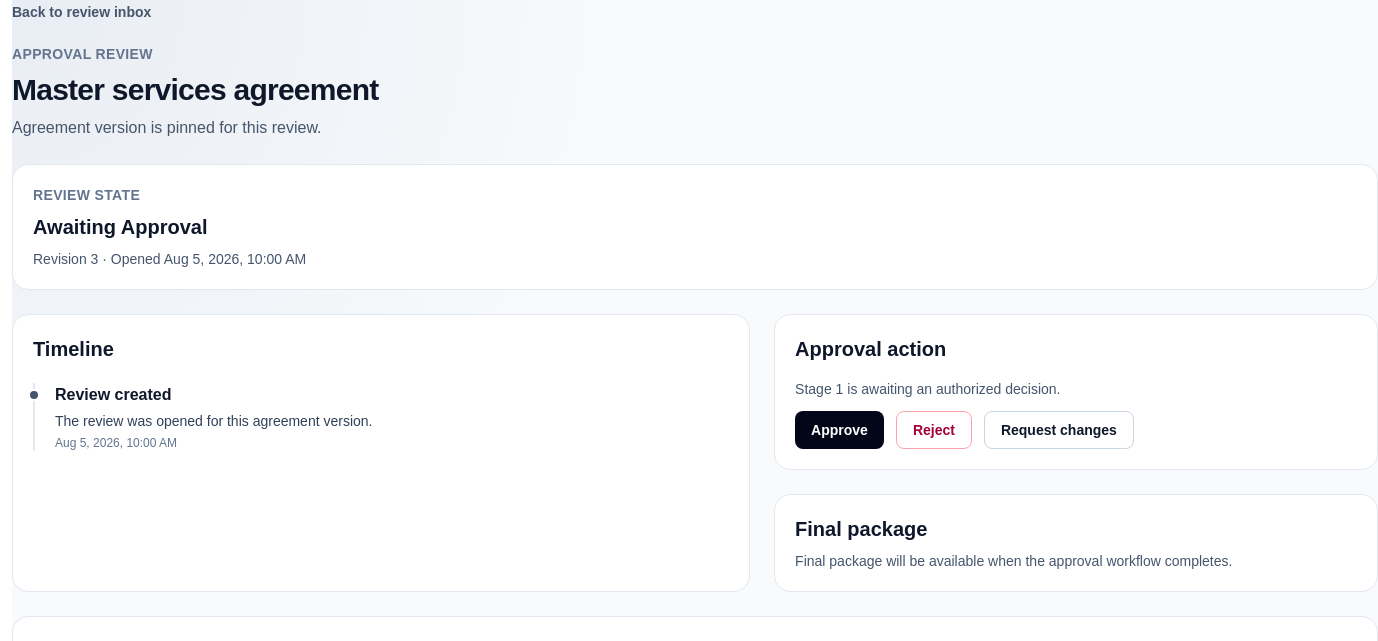
ApprovalReviewWorkspace › records an approval against the workflow revision
Click the button "Approve": (840, 430) [795,411,884,449]
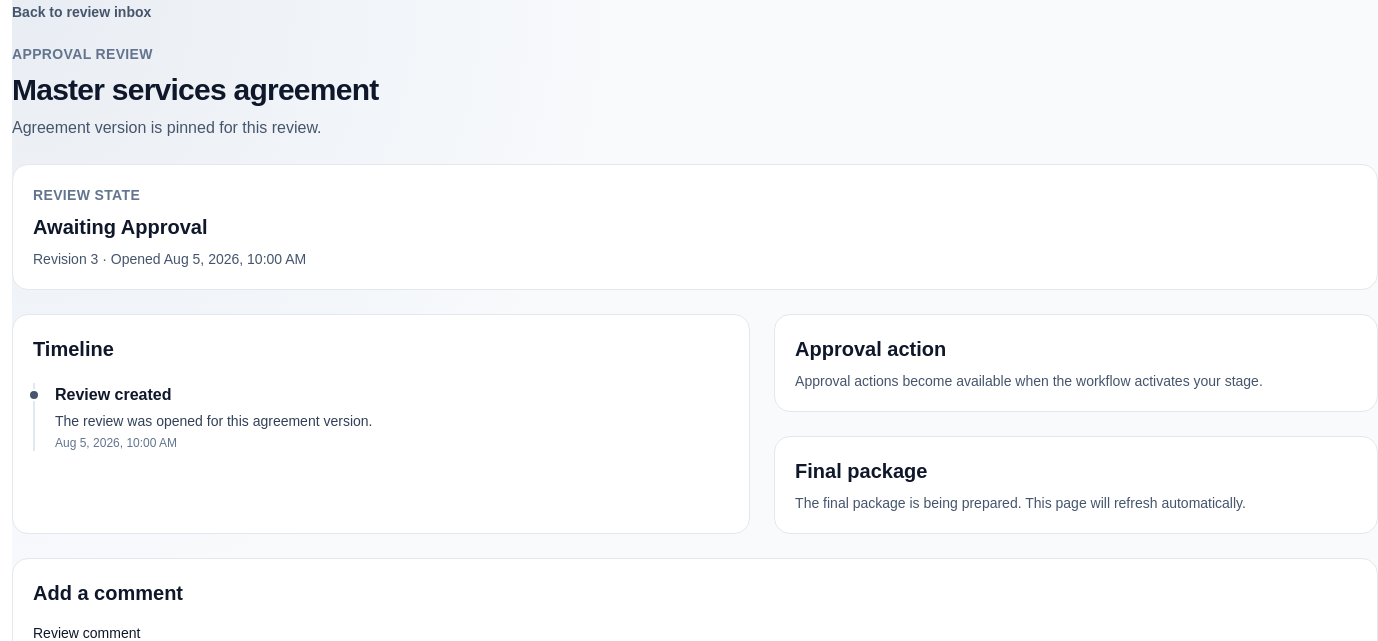
Result: the text "Approval actions become available" is shown at [795,373,1263,389]
